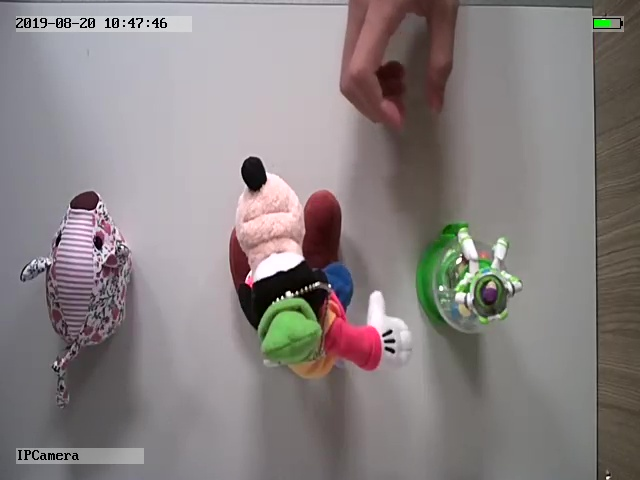buzz: (416, 221, 525, 335)
goofy: (225, 150, 417, 383)
pig: (18, 188, 142, 409)
